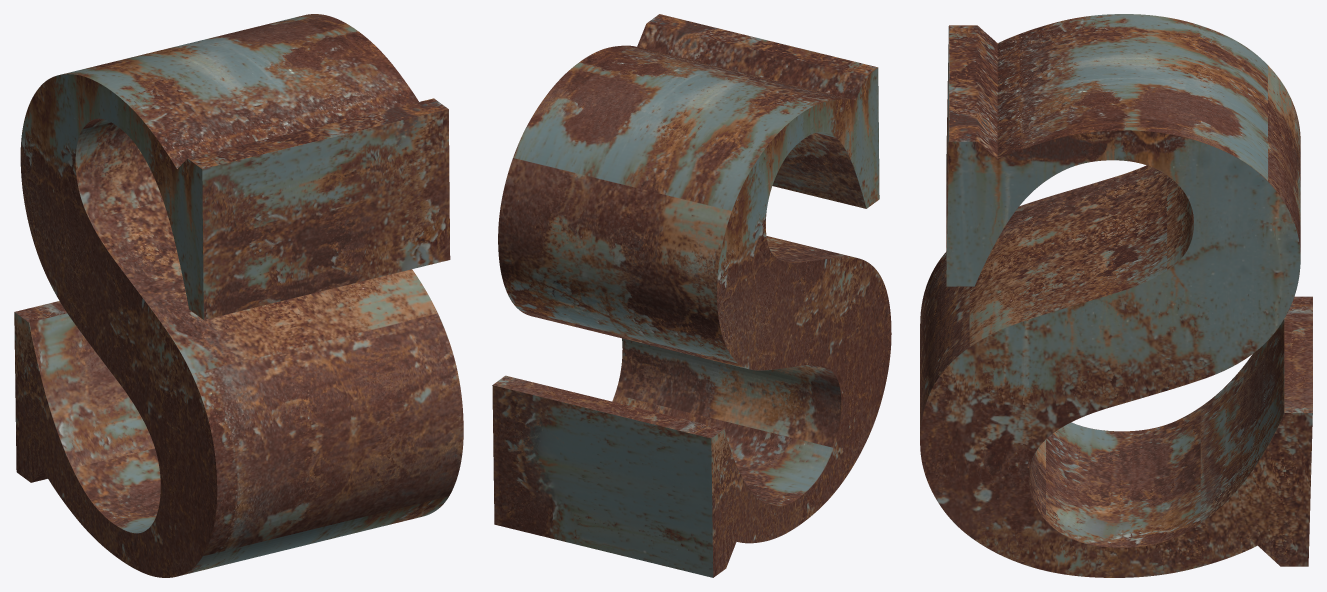
3 renders of one model, left to right at view 1: azimuth 30°, elevation 25°; view 2: azimuth 150°, elevation 25°; view 3: azimuth 270°, elevation 25°, orthographic. The views are drawn at different scales.
Visible parts, largest first — view 1: S; view 2: S; view 3: S.
Boxes of the visible parts, x1=… form: S: x1=14, y1=14, x2=463, y2=577; S: x1=492, y1=14, x2=891, y2=577; S: x1=920, y1=14, x2=1312, y2=577.
Size of the model in its own units: 51.25 by 91.89 by 73.09.
